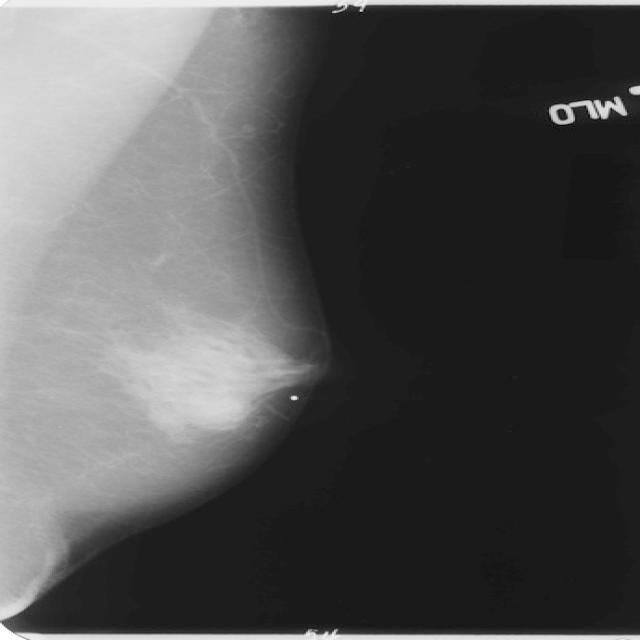tumour: (143, 396, 247, 427)
